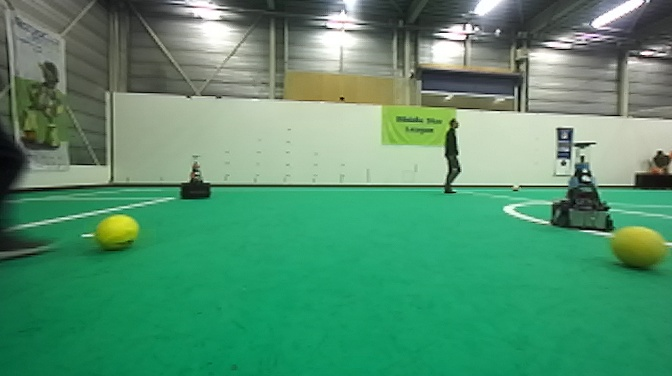ball: (611, 223, 665, 273), (91, 211, 141, 254), (509, 181, 521, 194)
human: (435, 119, 467, 195), (649, 148, 672, 189)
robot: (549, 139, 616, 232), (177, 153, 215, 201)
